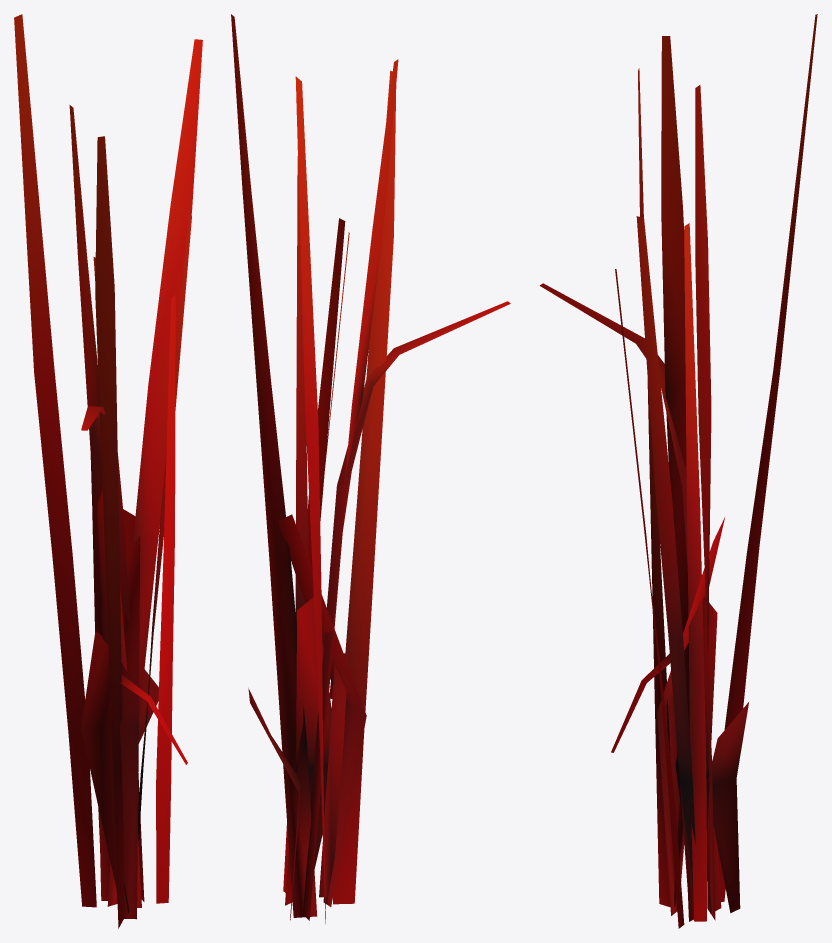
Rendered from SM_RicePlants_5.fbx.
3 views of the same model, side by side, from view 1: azimuth 30°, elevation 25°; view 2: azimuth 150°, elevation 25°; view 3: azimuth 270°, elevation 25° (orthographic). The views are drawn at different scales.
Visible parts, largest first — view 1: SM_RicePlants_5; view 2: SM_RicePlants_5; view 3: SM_RicePlants_5.
Part boxes in pixels (box(x1,y1,x2,y2)): SM_RicePlants_5: box(14, 14, 202, 928); SM_RicePlants_5: box(231, 14, 510, 923); SM_RicePlants_5: box(539, 14, 817, 928).
Bounding box in the file's own units: 0.2541 × 1.07 × 0.3055.
